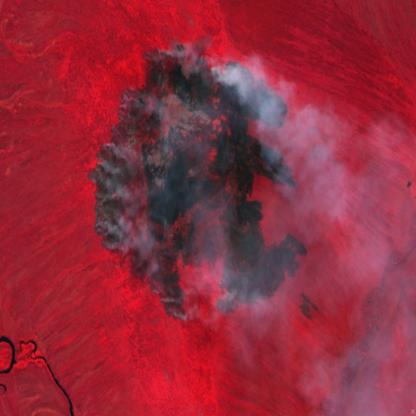fire: (79, 34, 262, 332)
